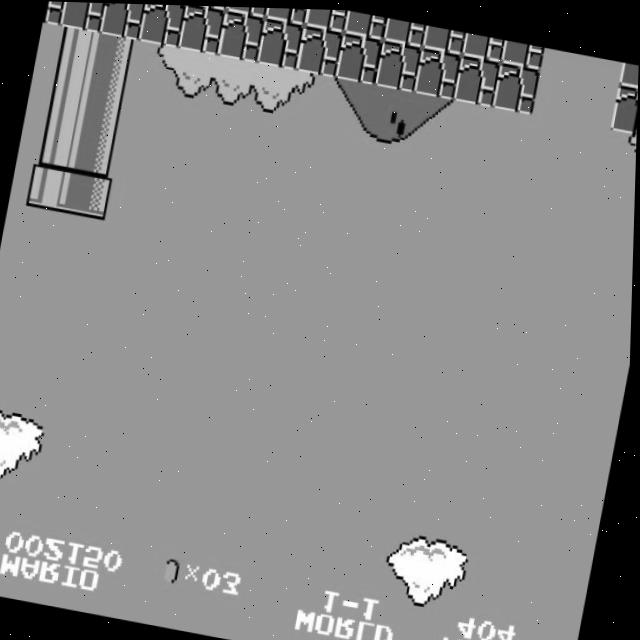14- pipe: (82, 77, 131, 131), (43, 70, 92, 123), (51, 25, 100, 78), (90, 33, 139, 86), (35, 116, 84, 168), (74, 123, 123, 175)
15- pipe_head: (27, 160, 76, 213), (66, 167, 115, 220)
17- undestructible_block: (295, 23, 345, 76), (413, 45, 463, 98), (217, 9, 266, 62), (256, 16, 305, 69), (335, 30, 384, 83), (374, 37, 423, 90), (453, 52, 502, 105), (492, 59, 541, 112), (177, 4, 226, 54), (138, 3, 187, 47), (98, 2, 147, 40), (59, 1, 108, 33), (610, 80, 638, 133), (343, 9, 388, 39), (422, 23, 467, 53), (461, 30, 506, 60), (383, 15, 427, 45), (501, 37, 545, 67), (303, 7, 348, 31), (265, 6, 309, 24), (618, 58, 639, 88), (42, 1, 67, 26), (225, 5, 269, 16)
